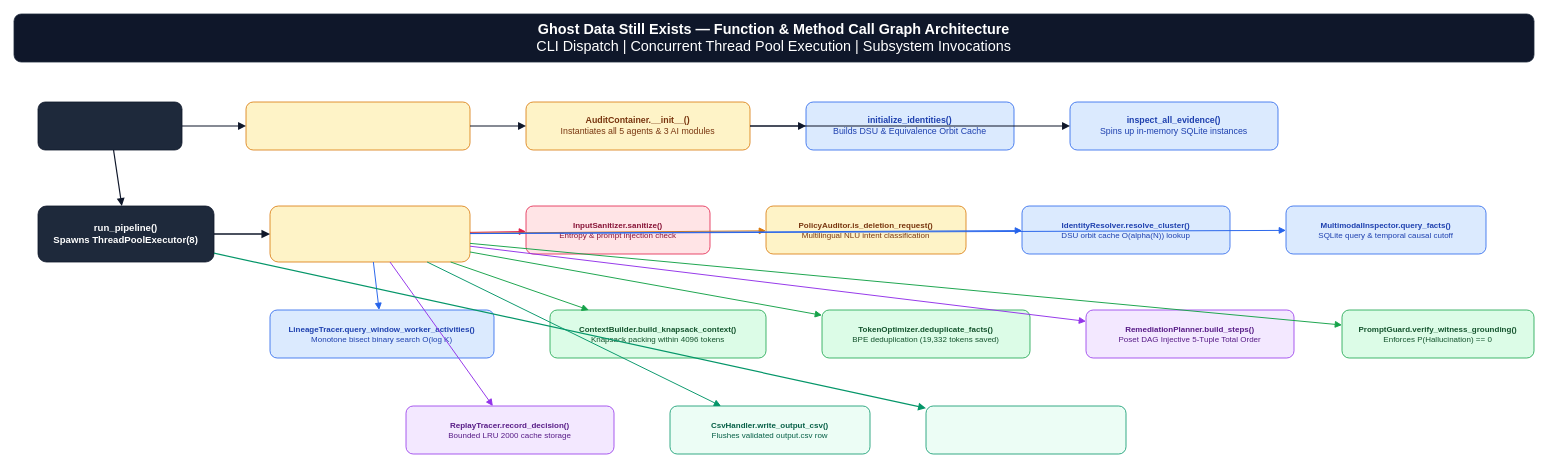
Image size: 1548x468. Some labels were removed from this diagram. Here are the shapes that lost their labels. From the top down, the centre of each, then its label:
At [109,125]: "main() code/main.py".
At [357,125]: "DeletionAuditOrchestrator.__init__() Loads container, logger, tracer, telemetry".
At [369,233]: "audit_single_request(req) Core multi-agent pipeline executor".
At [1025,429]: "OutputSchemaValidator.validate() Validates 518 rows and JSON steps".
